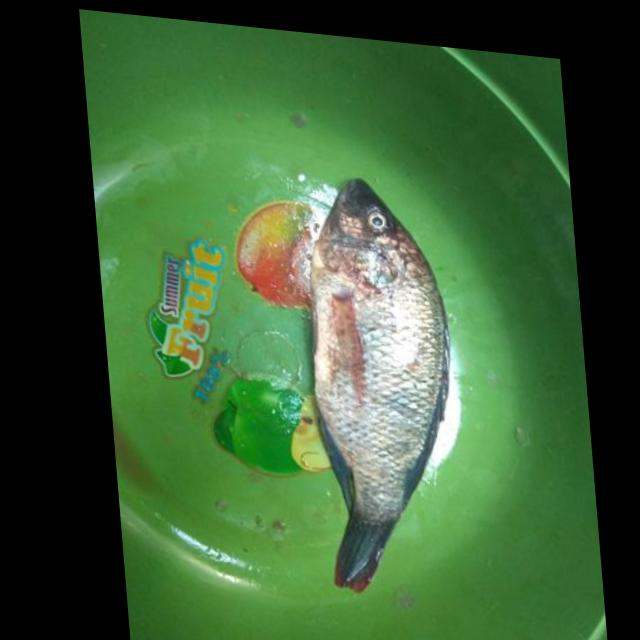Tilapia: (299, 168, 472, 604)
